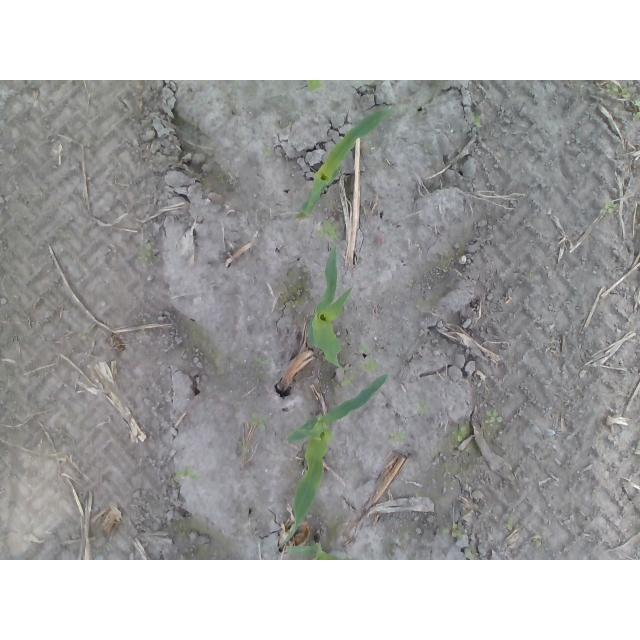Maize: (277, 374, 388, 550), (296, 108, 393, 219), (304, 245, 356, 370), (285, 536, 343, 561), (306, 80, 342, 93)
Weeds: (314, 220, 339, 241), (173, 465, 199, 483), (607, 81, 630, 99), (360, 359, 380, 376), (249, 412, 267, 430), (140, 243, 152, 267), (443, 523, 463, 537), (452, 424, 468, 441), (600, 201, 618, 216), (387, 432, 406, 445), (416, 398, 431, 414), (486, 410, 503, 423), (341, 374, 356, 388), (78, 327, 90, 341), (359, 343, 373, 354), (237, 440, 248, 453), (471, 114, 482, 127), (633, 99, 640, 119), (262, 145, 273, 157), (506, 517, 514, 531), (256, 357, 270, 365), (535, 536, 545, 547), (465, 548, 474, 560), (423, 143, 430, 154), (527, 272, 536, 280), (354, 80, 362, 85)
